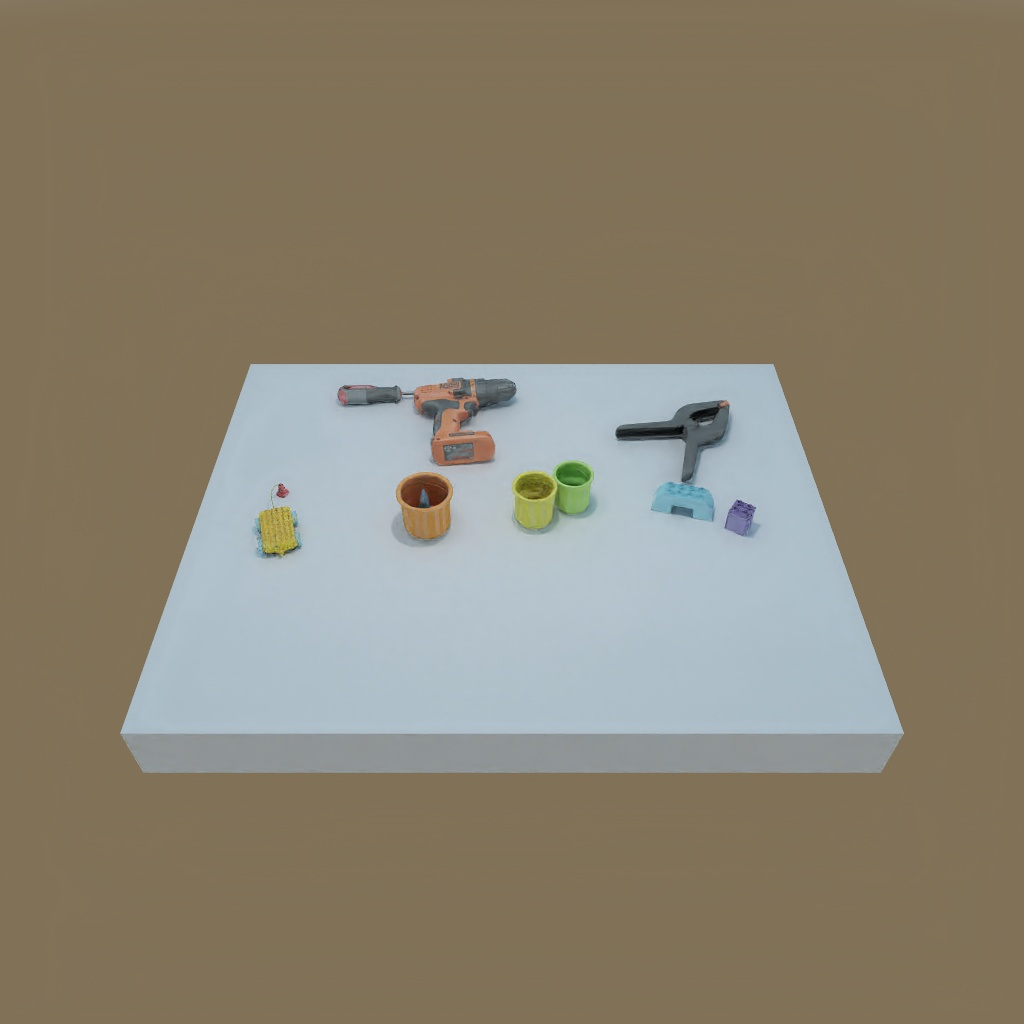power_drill: (406, 381, 513, 467)
